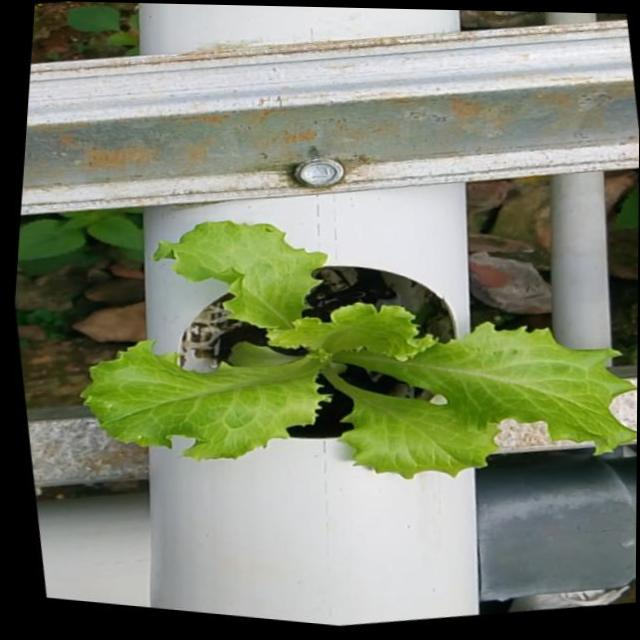Baby: (78, 215, 637, 473)
